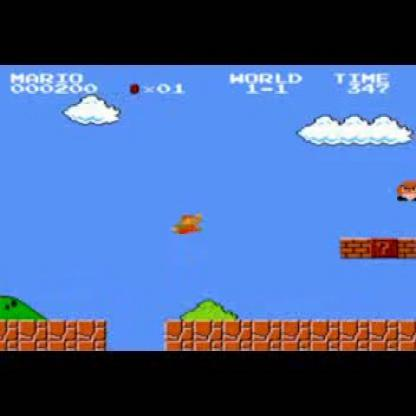Goomba: (393, 175, 415, 205)
Hoyo: (99, 318, 170, 350)
